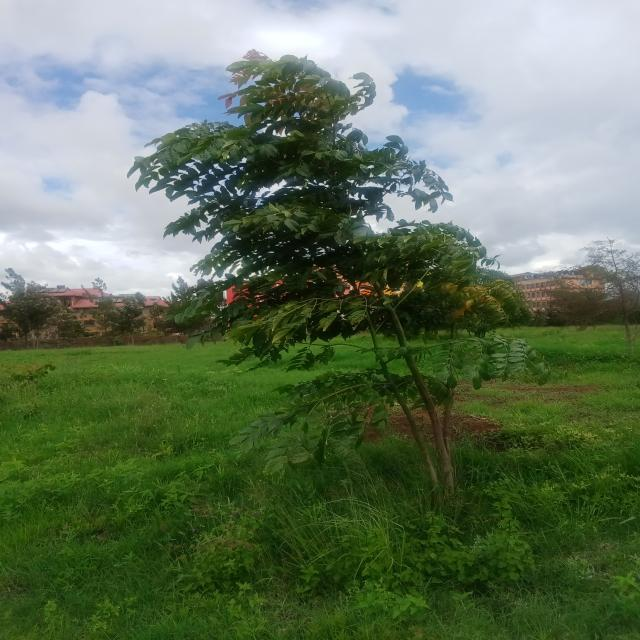Polyscias Kikuyensis: (123, 32, 578, 540)
